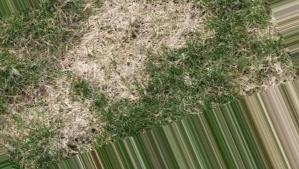patch: (108, 6, 195, 43), (32, 92, 80, 143), (77, 49, 138, 85)
